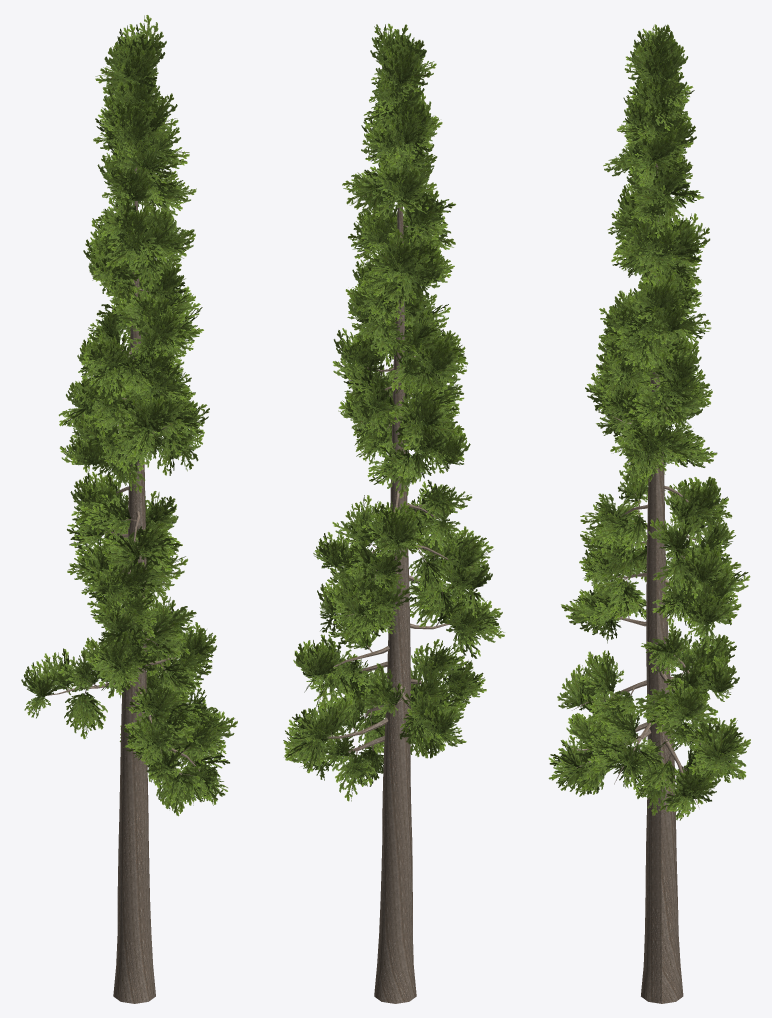
File: DouglasFir_1.obj
3 renders of one model, left to right at view 1: azimuth 30°, elevation 25°; view 2: azimuth 150°, elevation 25°; view 3: azimuth 270°, elevation 25°, orthographic.
Parts seen in each view (by area): view 1: DouglasFir_1; view 2: DouglasFir_1; view 3: DouglasFir_1.
Boxes of the visible parts, x1,y1,x2,y2 form: DouglasFir_1: [21, 15, 237, 1003]; DouglasFir_1: [283, 23, 504, 1003]; DouglasFir_1: [548, 24, 750, 1003].
Bounding box in the file's own units: 21.97 × 106 × 21.06.
2 materials, 2 textured.
